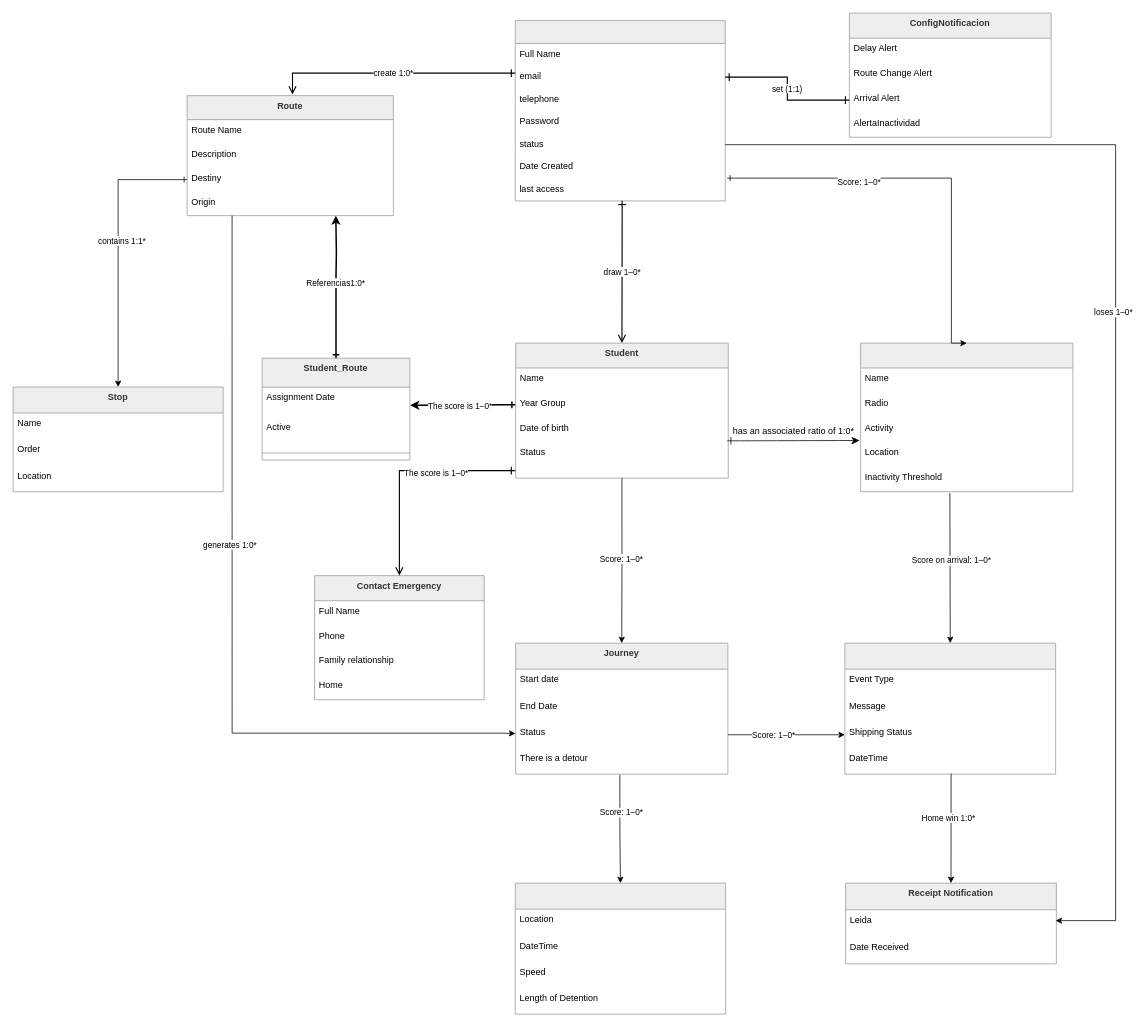
Some shapes in this 1145 by 1030 pixel diagram are drawn without their labels. The shapes that lost their labels are listed below. From the top down, each one's box as (x1, y1, x2, y2) in pixels, then its label:
(514, 20, 725, 201): User
(860, 342, 1073, 492): Safe Zone
(844, 642, 1056, 774): Notificacion
(514, 882, 726, 1014): Coordinate
